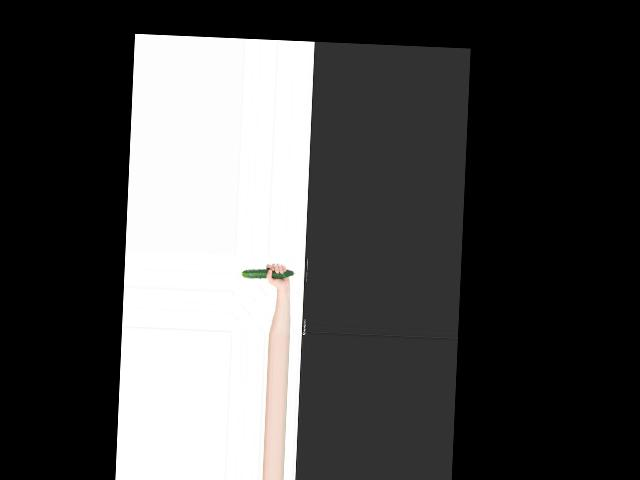cucumber: (242, 267, 295, 280)
